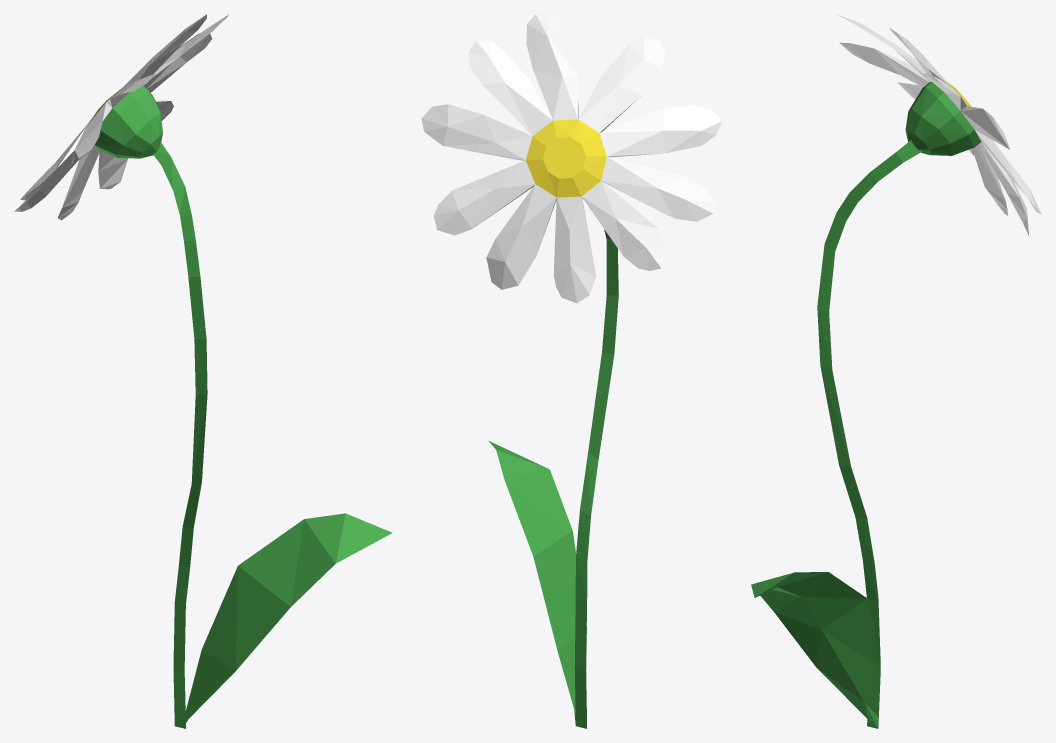
Rendered from daisy-normal.glb.
The picture shows the model from 3 angles, left to right: view 1: azimuth 30°, elevation 25°; view 2: azimuth 150°, elevation 25°; view 3: azimuth 270°, elevation 25°; orthographic projection. The views are drawn at different scales.
Parts seen in each view (by area): view 1: group1291483580, group790836088, group2033663355; view 2: group790836088, group1291483580, group2033663355; view 3: group1291483580, group790836088, group2033663355.
Part boxes in pixels (<box>): group1291483580: <box>185,513,392,722</box>; group790836088: <box>14,14,228,220</box>; group2033663355: <box>153,142,207,728</box>; group790836088: <box>421,14,722,303</box>; group1291483580: <box>489,441,586,722</box>; group2033663355: <box>574,229,618,728</box>; group1291483580: <box>751,572,880,728</box>; group790836088: <box>836,14,1041,236</box>; group2033663355: <box>817,140,922,728</box>.
Size of the model in its own units: 1.62 by 3.62 by 1.34.
